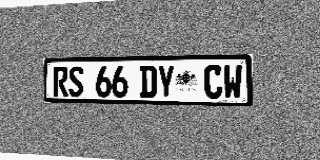6: (112, 66, 128, 97), (96, 66, 111, 97)
C: (204, 65, 223, 99)
D: (140, 65, 157, 98)
R: (53, 66, 68, 97)
S: (69, 66, 84, 97)
W: (223, 64, 242, 99)
Y: (157, 65, 175, 98)
